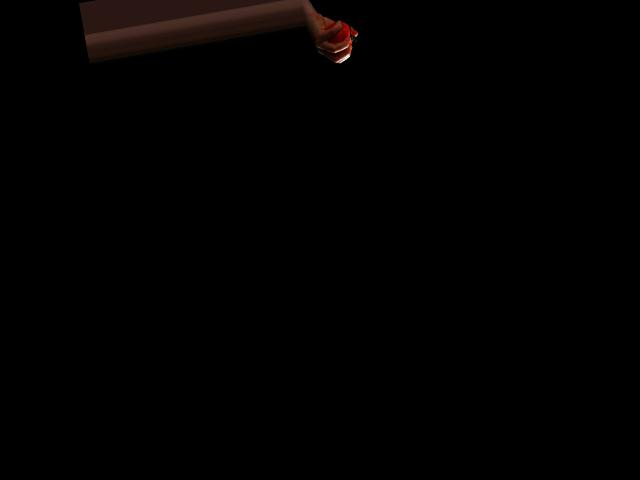tomato: (323, 19, 352, 48)
